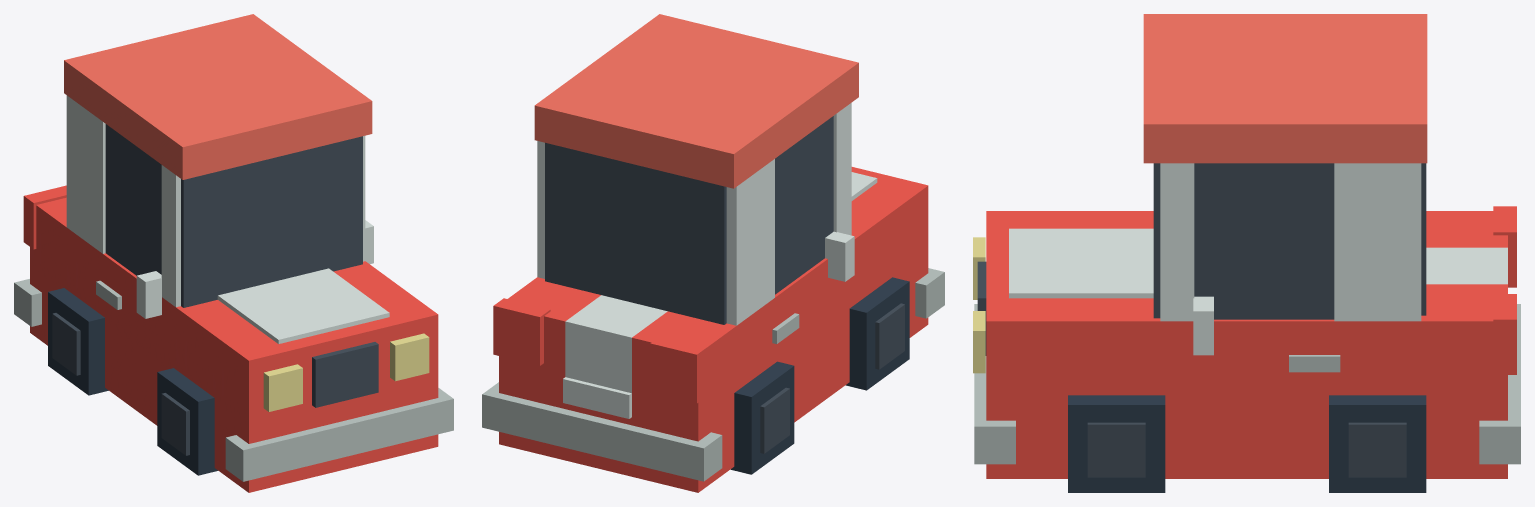
Rendered from Car_Red.fbx.
The picture shows the model from 3 angles, left to right: view 1: azimuth 30°, elevation 25°; view 2: azimuth 150°, elevation 25°; view 3: azimuth 270°, elevation 25°; orthographic projection. The views are drawn at different scales.
Parts seen in each view (by area): view 1: polySurface101; view 2: polySurface101; view 3: polySurface101.
Part boxes in pixels (left/top/right/bottom): polySurface101: left=14, top=14, right=453, bottom=492; polySurface101: left=482, top=14, right=944, bottom=492; polySurface101: left=973, top=14, right=1520, bottom=492.
Size of the model in its own units: 3.68 by 4.56 by 6.3.
